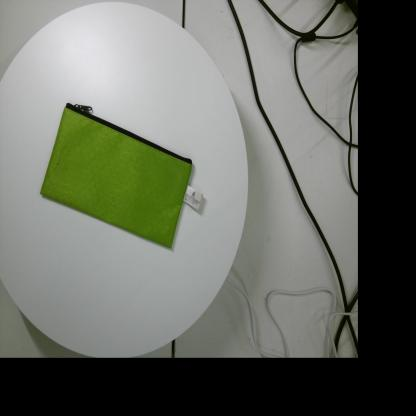Stationery: (40, 102, 204, 249)
